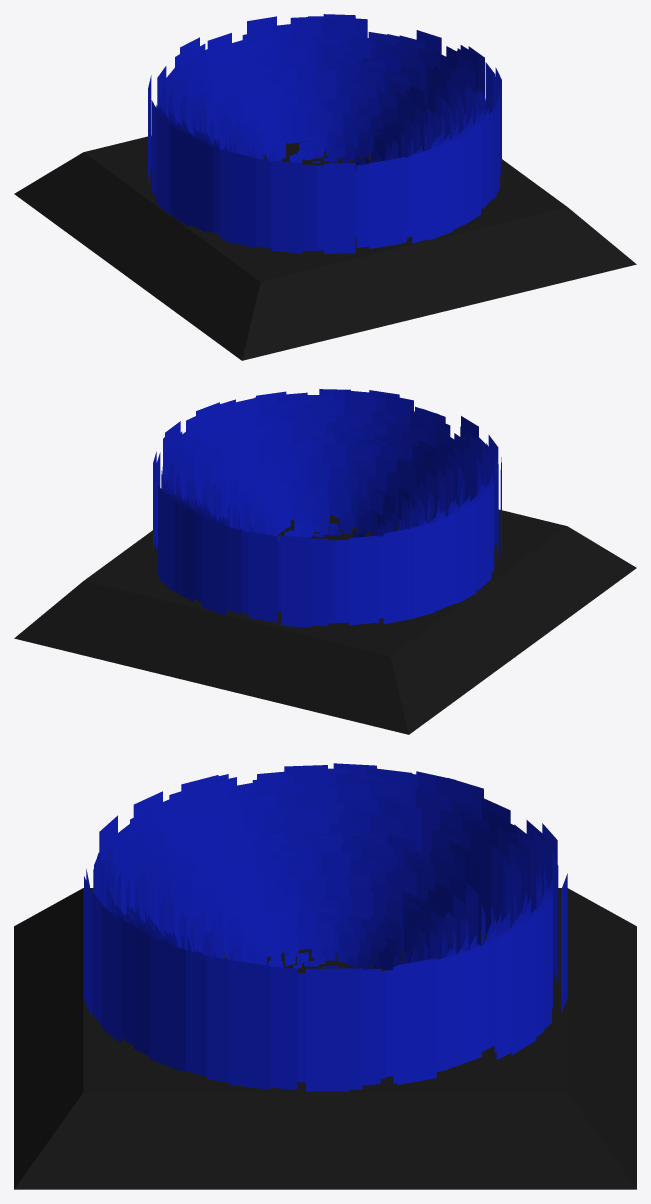
The model's file is HoloProjector.glb.
3 renders of one model, top to bottom at view 1: azimuth 30°, elevation 25°; view 2: azimuth 150°, elevation 25°; view 3: azimuth 270°, elevation 25°, orthographic. The views are drawn at different scales.
Parts seen in each view (by area): view 1: Cube.002, Cube.001; view 2: Cube.002, Cube.001; view 3: Cube.002, Cube.001.
Boxes of the visible parts, <box> form: Cube.002: <box>148,14,501,253</box>; Cube.001: <box>14,136,636,360</box>; Cube.002: <box>153,389,501,627</box>; Cube.001: <box>14,509,636,734</box>; Cube.002: <box>84,763,567,1091</box>; Cube.001: <box>14,888,636,1189</box>.
Size of the model in its own units: 0.489 by 0.1664 by 0.489.
